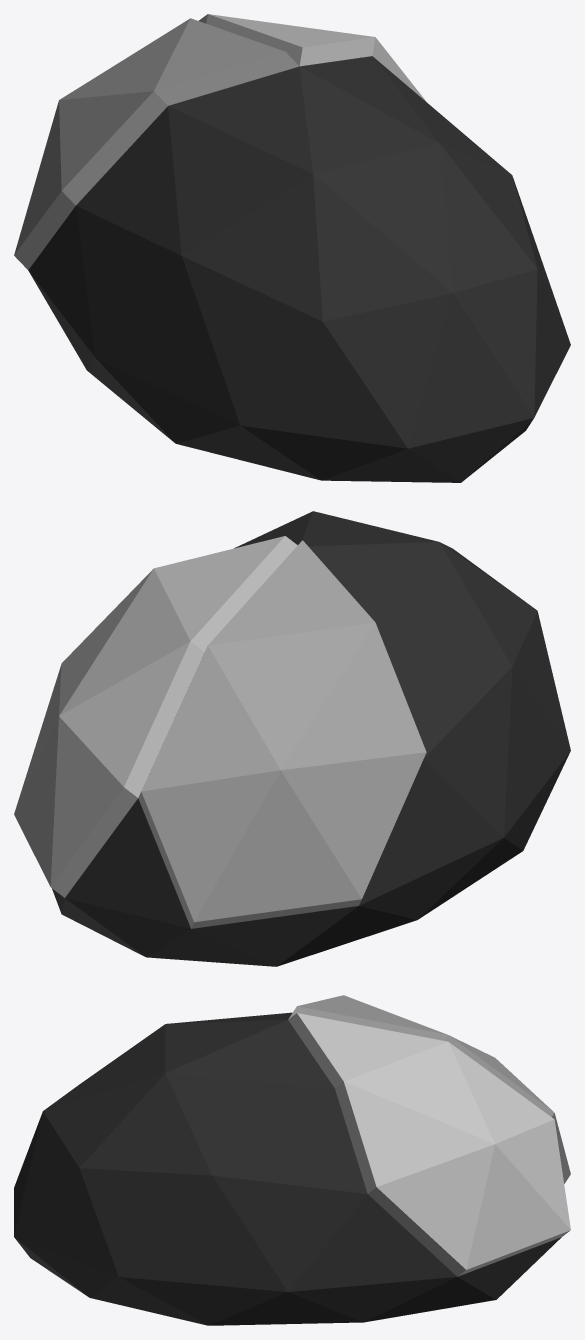
File: Mouse.fbx
The picture shows the model from 3 angles, top to bottom: view 1: azimuth 30°, elevation 25°; view 2: azimuth 150°, elevation 25°; view 3: azimuth 270°, elevation 25°; orthographic projection. The views are drawn at different scales.
Visible parts, largest first — view 1: Icosphere; view 2: Icosphere; view 3: Icosphere.
Boxes of the visible parts, x1,y1,x2,y2 form: Icosphere: (14,14,570,482); Icosphere: (14,511,570,966); Icosphere: (14,995,570,1325).
Bounding box in the file's own units: 13.08 × 9.52 × 19.33.
